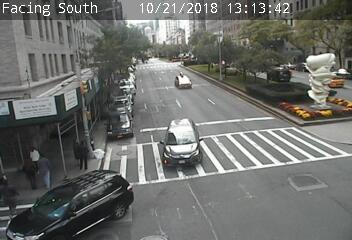car: (166, 123, 194, 162), (175, 72, 189, 85)
